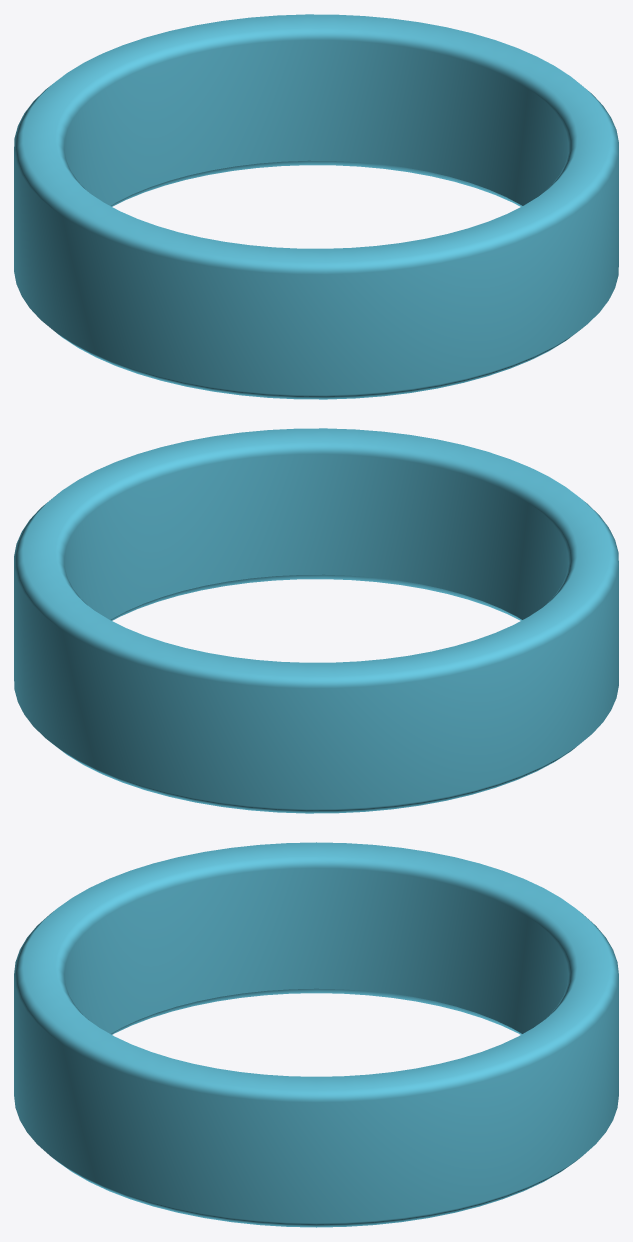
The picture shows the model from 3 angles, top to bottom: view 1: azimuth 30°, elevation 25°; view 2: azimuth 150°, elevation 25°; view 3: azimuth 270°, elevation 25°; orthographic projection.
Visible parts, largest first — view 1: seal_body; view 2: seal_body; view 3: seal_body.
Boxes of the visible parts, left/top/right/bottom form: seal_body: left=14, top=14, right=618, bottom=399; seal_body: left=14, top=428, right=618, bottom=813; seal_body: left=14, top=842, right=618, bottom=1227.
Size of the model in its own units: 0.0381 by 0.00952 by 0.0381.
